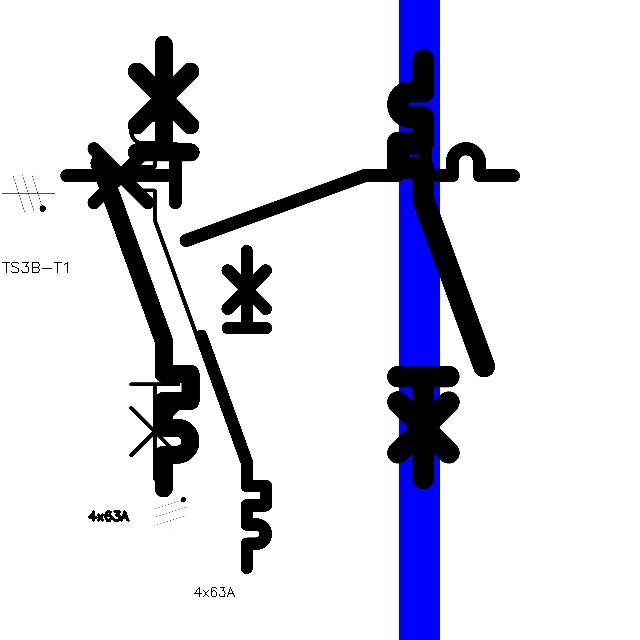interruptor_termomagnetico: (55, 137, 525, 252), (88, 33, 202, 500), (387, 49, 494, 489), (121, 80, 221, 489), (193, 243, 274, 576)
